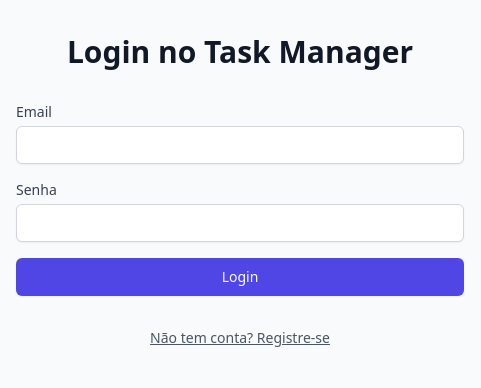
it: Login user › should render validations errors
The width and height of the screenshot is (481, 388).
Expected: the heading with id "auth-text" reads "Login no Task Manager", x1=67 y1=31 x2=413 y2=72
Expected: the form with id "login-form" is shown, x1=16 y1=102 x2=464 y2=296
What coordinates should you click on to do the following:
click the submit button
I would click on:
 (240, 277)
Its box is x1=16 y1=258 x2=464 y2=296.
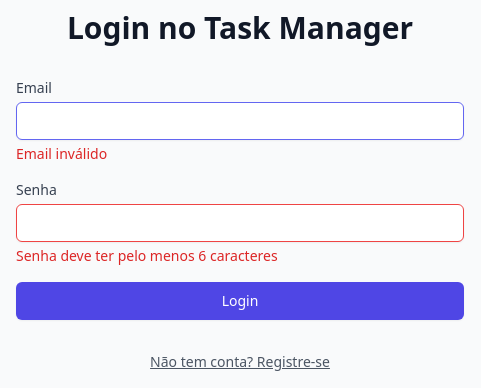
Expected: the text "Email inválido" is shown, x1=16 y1=144 x2=107 y2=163
Expected: the text "Senha deve ter pelo menos 6 caracteres" is shown, x1=16 y1=246 x2=278 y2=265
